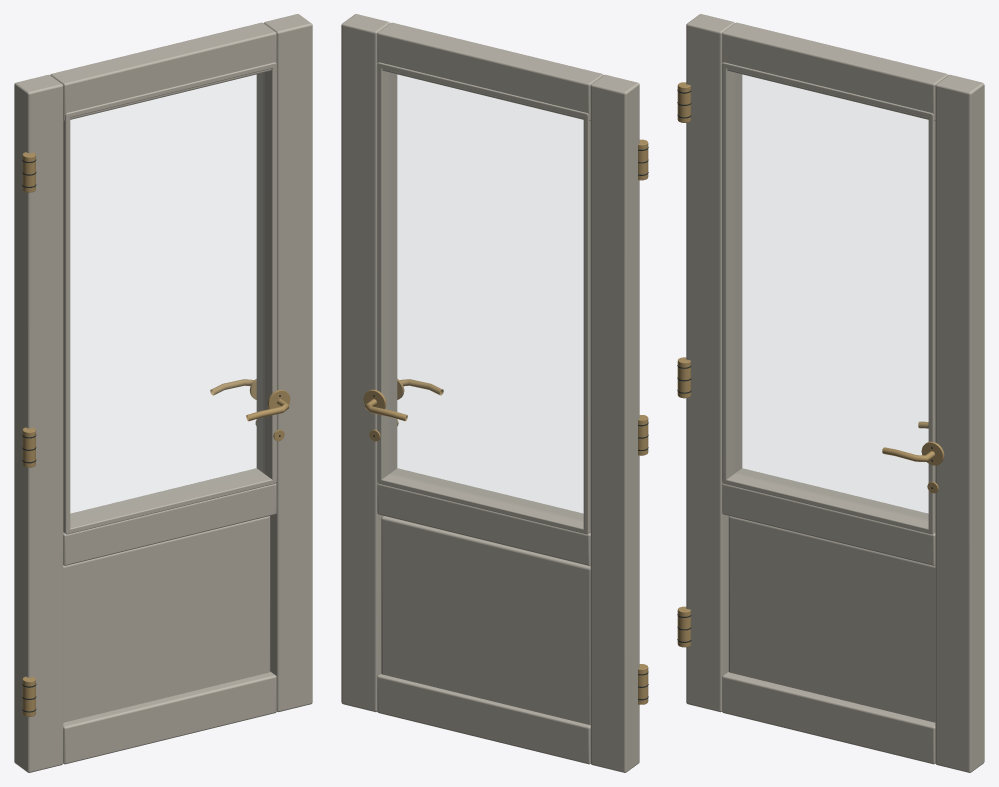
The model's file is door.glb.
3 renders of one model, left to right at view 1: azimuth 30°, elevation 25°; view 2: azimuth 150°, elevation 25°; view 3: azimuth 330°, elevation 25°, orthographic.
Visible parts, largest first — view 1: door / Champagne powder coat, door / Brushed warm brass; view 2: door / Champagne powder coat, door / Brushed warm brass; view 3: door / Champagne powder coat, door / Brushed warm brass.
Boxes of the visible parts, bbox=[...] form: door / Champagne powder coat: bbox=[14, 14, 312, 772]; door / Brushed warm brass: bbox=[22, 152, 290, 716]; door / Champagne powder coat: bbox=[341, 14, 639, 772]; door / Brushed warm brass: bbox=[363, 139, 648, 704]; door / Champagne powder coat: bbox=[686, 14, 984, 772]; door / Brushed warm brass: bbox=[677, 82, 944, 647].
Bounding box in the file's own units: 1.05 × 2.35 × 0.2549.
